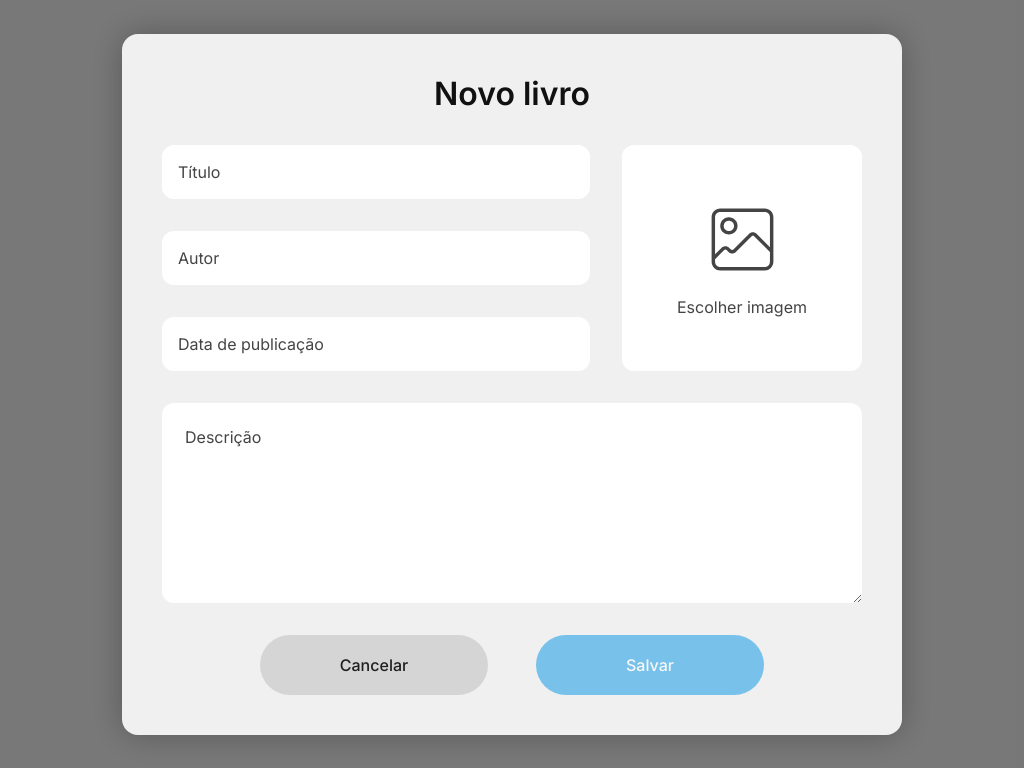
Test: FormularioLivro › mantém o botão Salvar desabilitado até título e autor serem preenchidos
This screenshot has width=1024, height=768.
Expected: the button "Salvar" is disabled, x1=536 y1=634 x2=764 y2=694
Type "Livro de Teste" into the field with placeholder "Título".
click(376, 172); type("Livro de Teste")  # box x1=162 y1=144 x2=590 y2=198
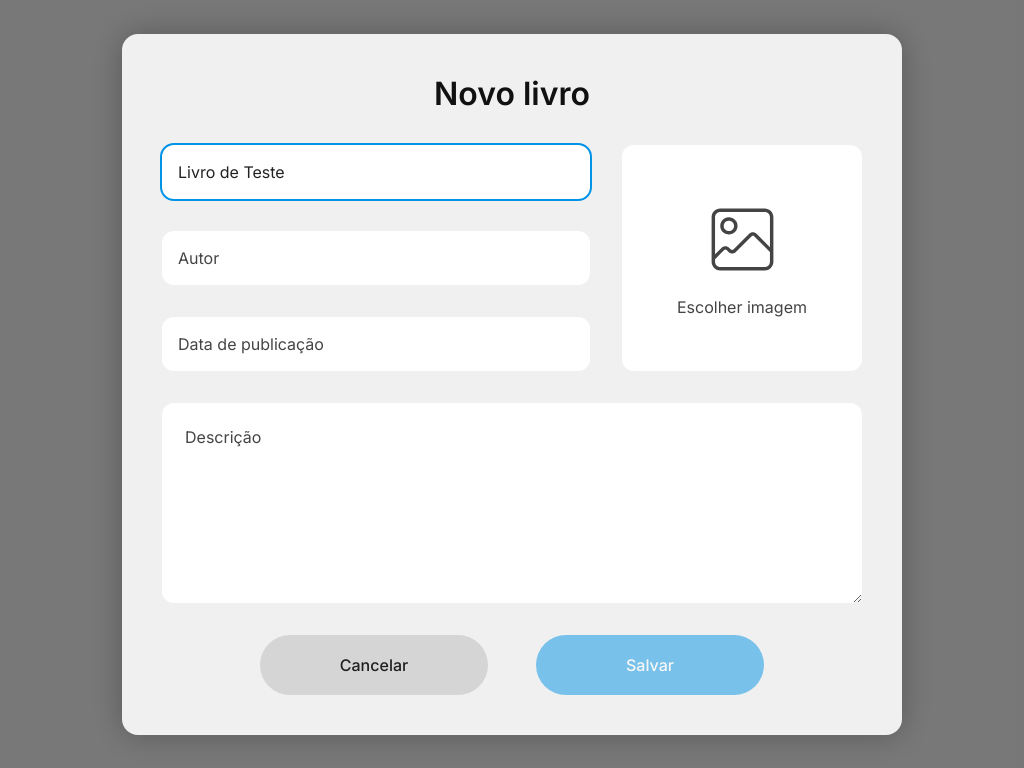
Expected: the button "Salvar" is disabled, x1=536 y1=634 x2=764 y2=694
Type "Autor de Teste" into the field with placeholder "Autor".
click(376, 258); type("Autor de Teste")  # box x1=162 y1=230 x2=590 y2=284
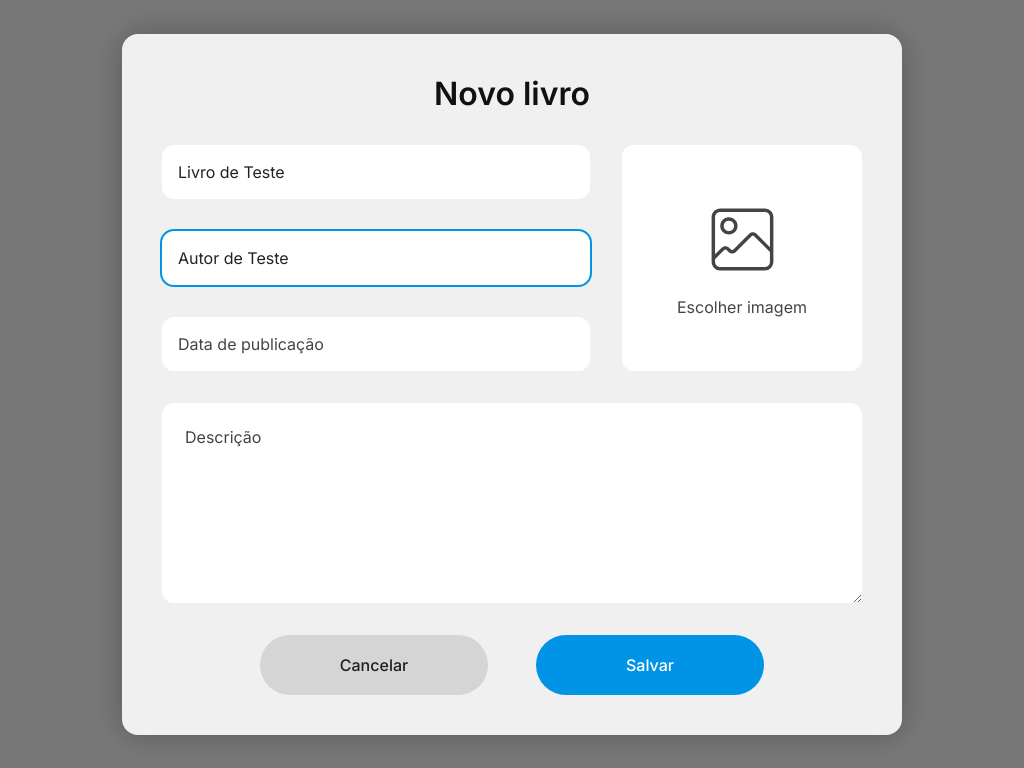
Expected: the button "Salvar" is enabled, x1=536 y1=634 x2=764 y2=694
